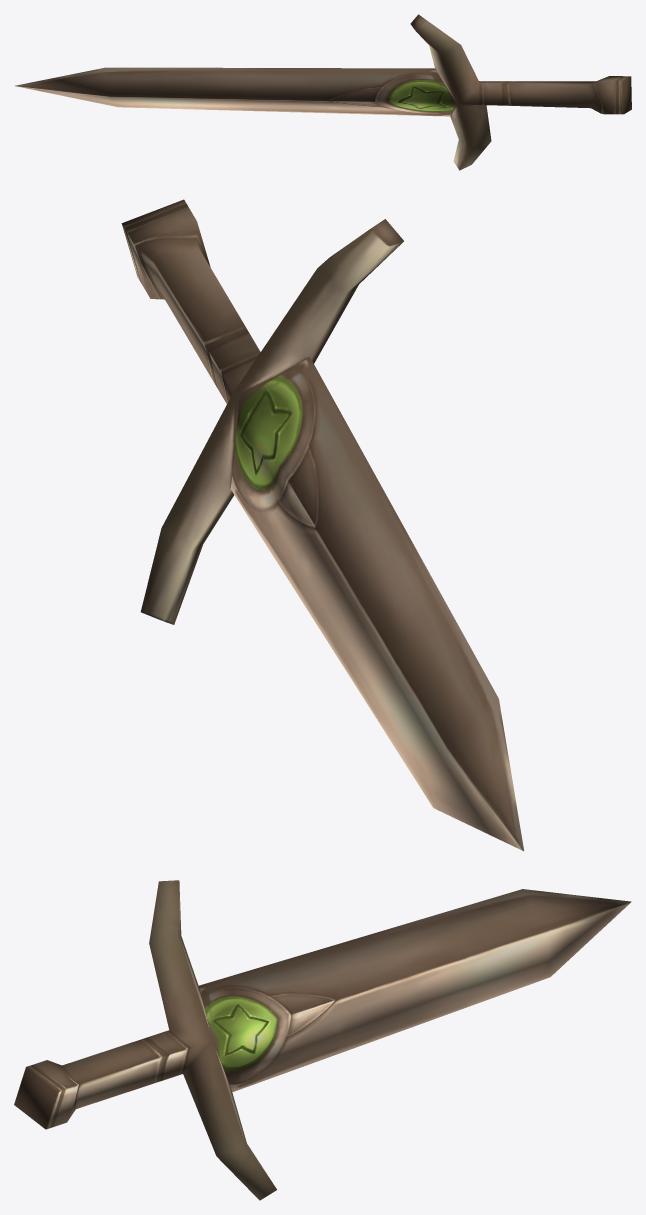
Rendered from Sword(96).obj.
3 views of the same model, one above another, from view 1: azimuth 30°, elevation 25°; view 2: azimuth 150°, elevation 25°; view 3: azimuth 270°, elevation 25° (orthographic). The views are drawn at different scales.
Parts seen in each view (by area): view 1: sword1_LOD003; view 2: sword1_LOD003; view 3: sword1_LOD003.
Boxes of the visible parts, <box> form: sword1_LOD003: <box>15,14,631,170</box>; sword1_LOD003: <box>121,199,523,851</box>; sword1_LOD003: <box>14,880,631,1200</box>.
Size of the model in its own units: 1.02 by 0.4648 by 0.9701.
